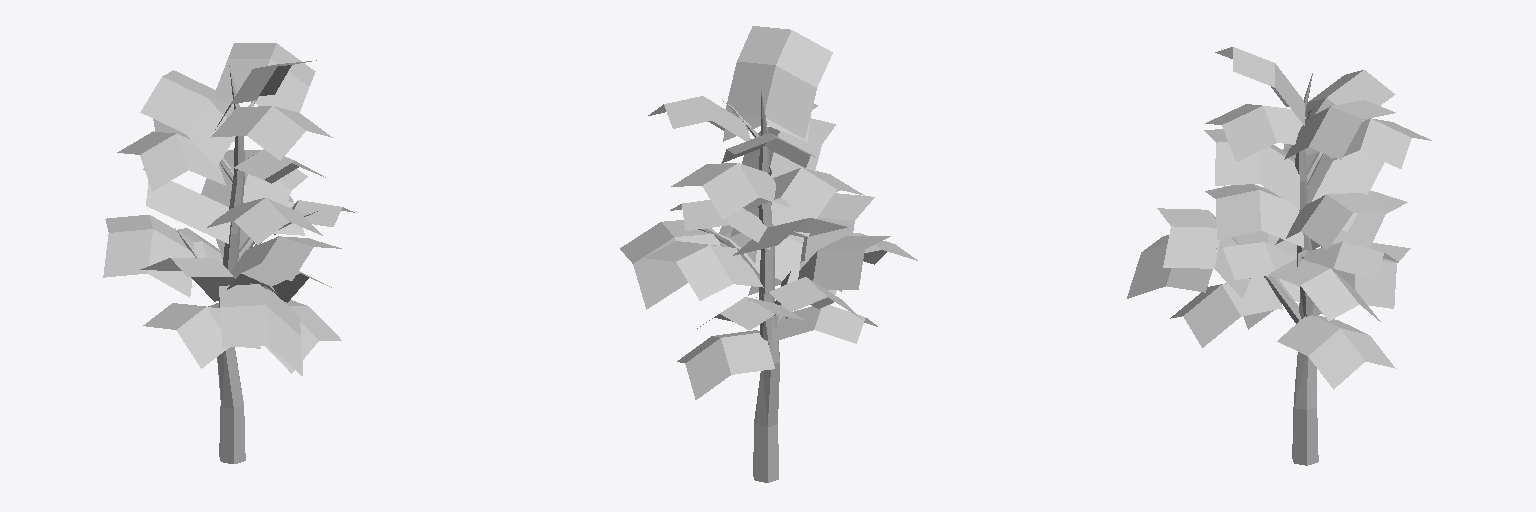
Rendered from tree14.obj.
3 renders of one model, left to right at view 1: azimuth 30°, elevation 25°; view 2: azimuth 150°, elevation 25°; view 3: azimuth 270°, elevation 25°, orthographic.
Parts seen in each view (by area): view 1: treeDark2:null_ group53; view 2: treeDark2:null_ group53; view 3: treeDark2:null_ group53.
Part boxes in pixels (bbox=[...]): treeDark2:null_ group53: bbox=[103, 43, 354, 463]; treeDark2:null_ group53: bbox=[620, 26, 917, 482]; treeDark2:null_ group53: bbox=[1127, 47, 1431, 465].
Bounding box in the file's own units: 48.08 × 77.49 × 51.58.